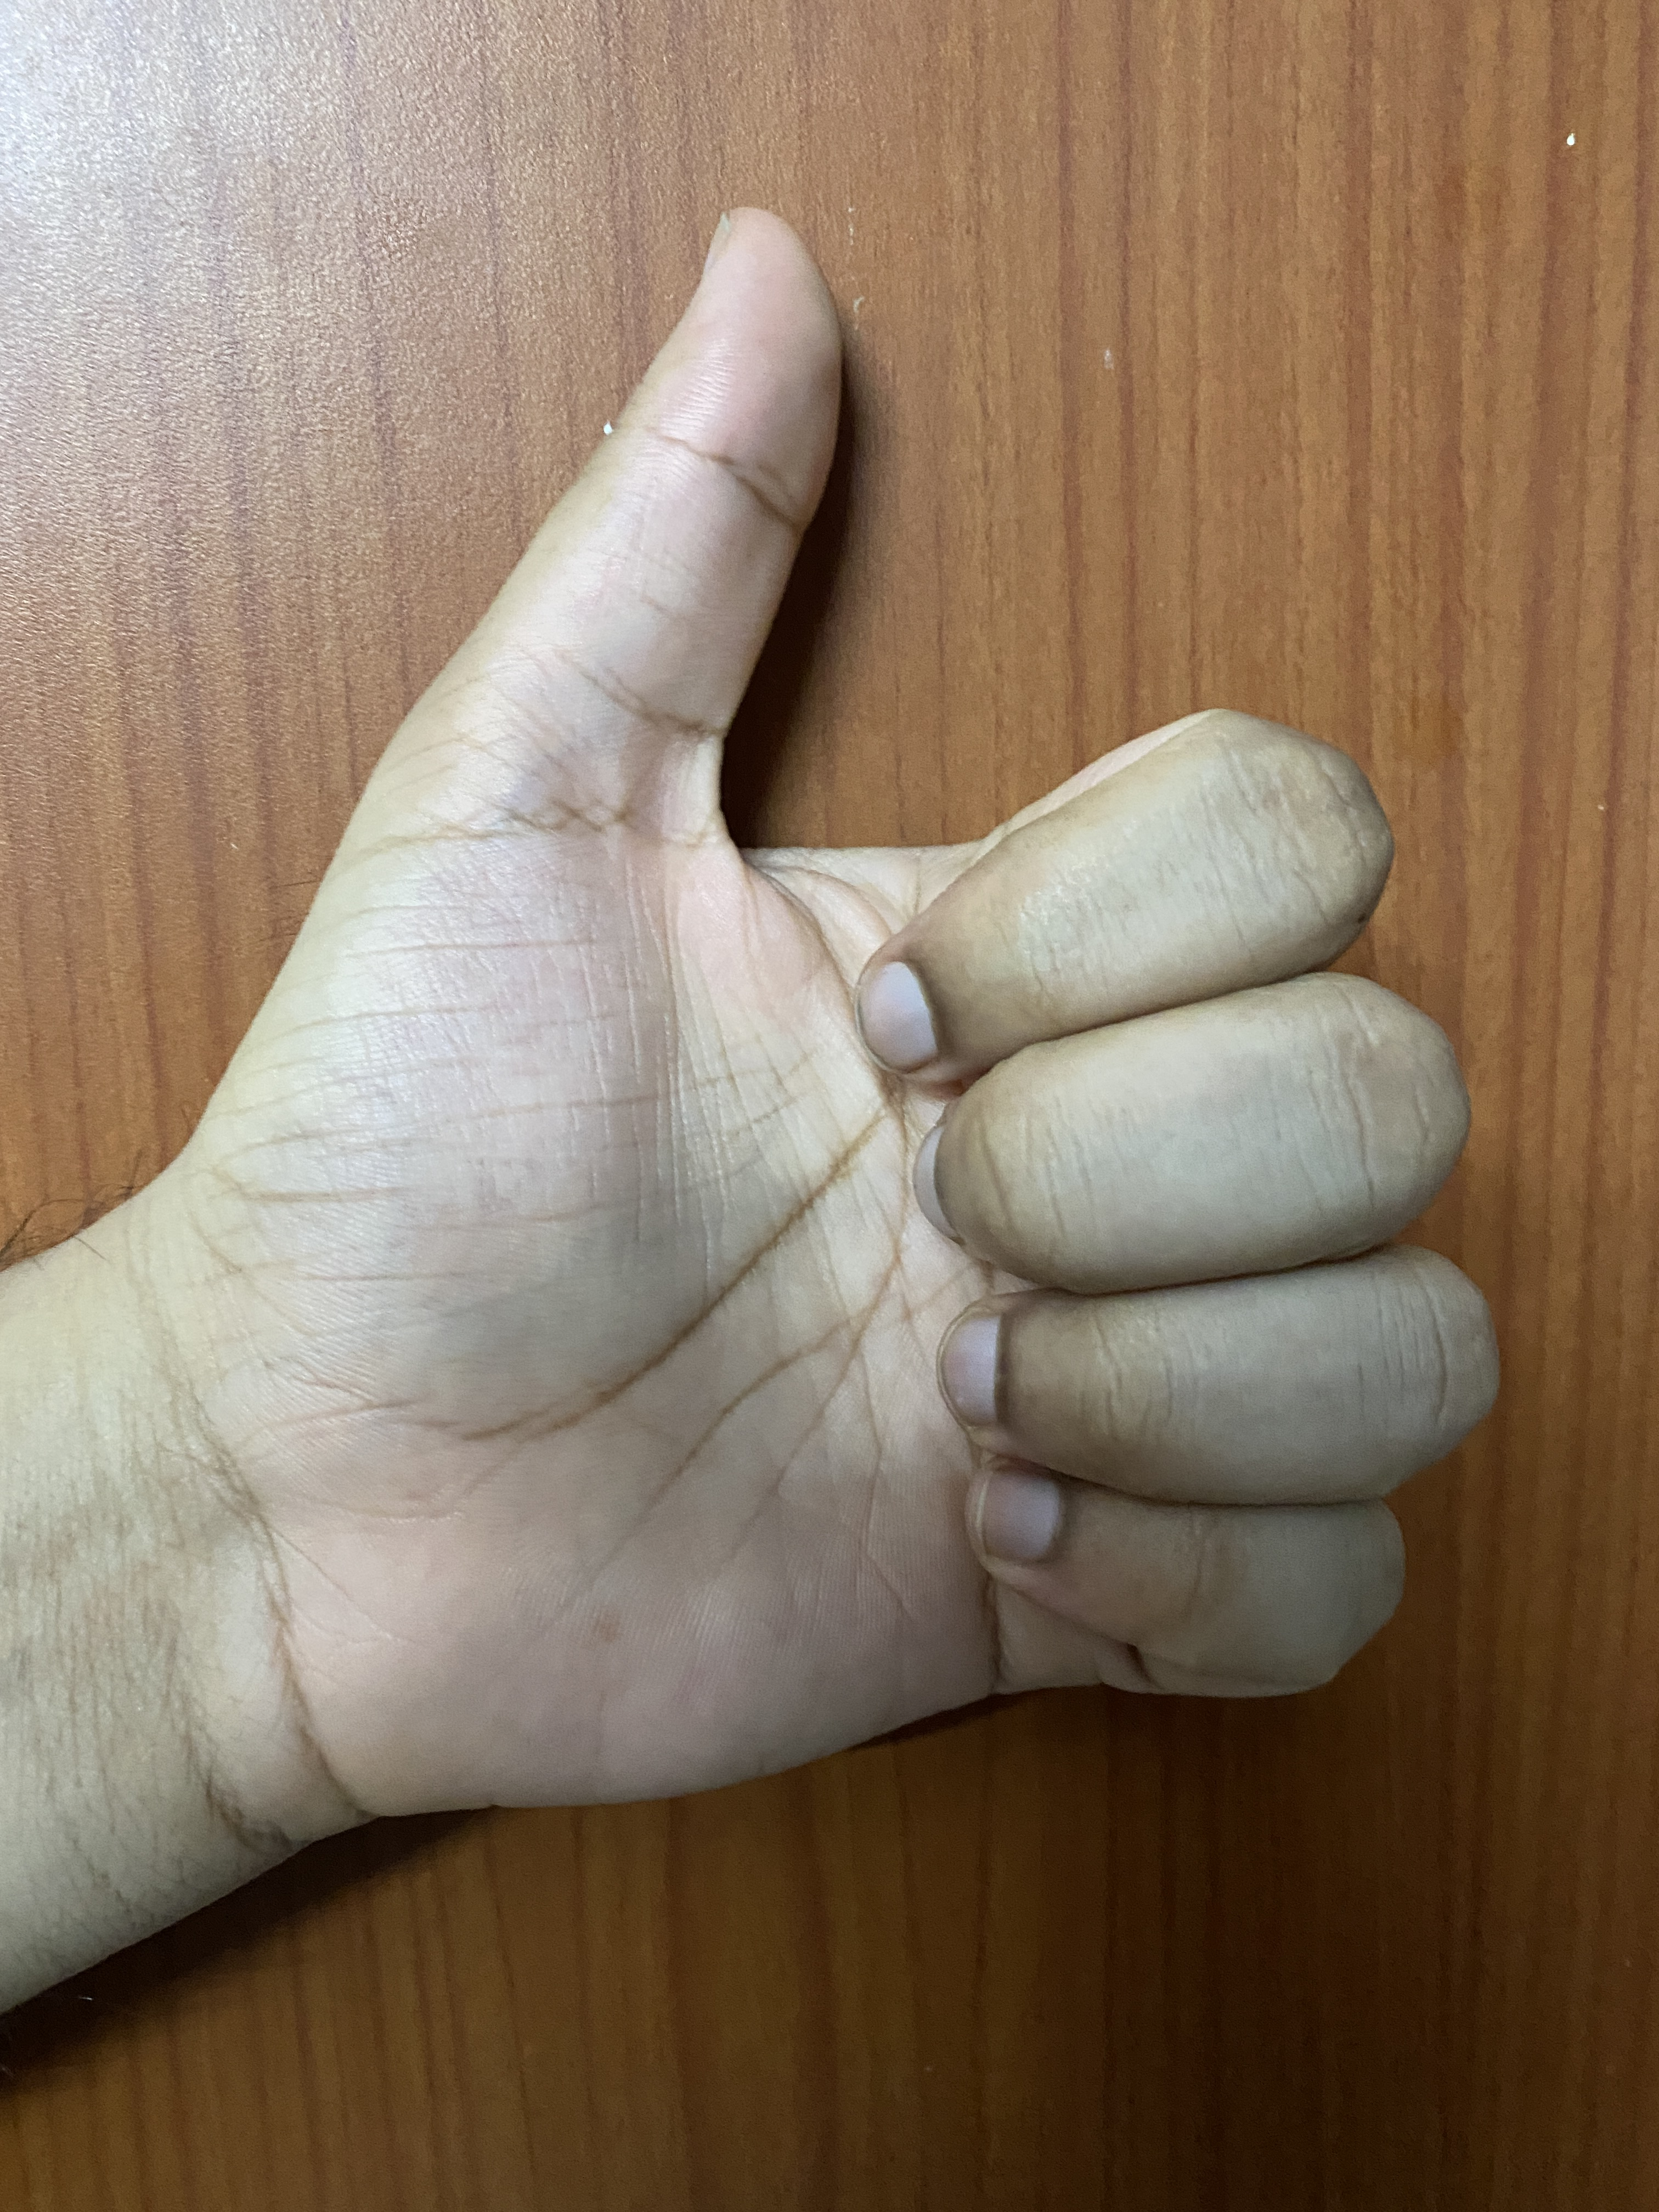up: (17, 202, 1579, 2060)
